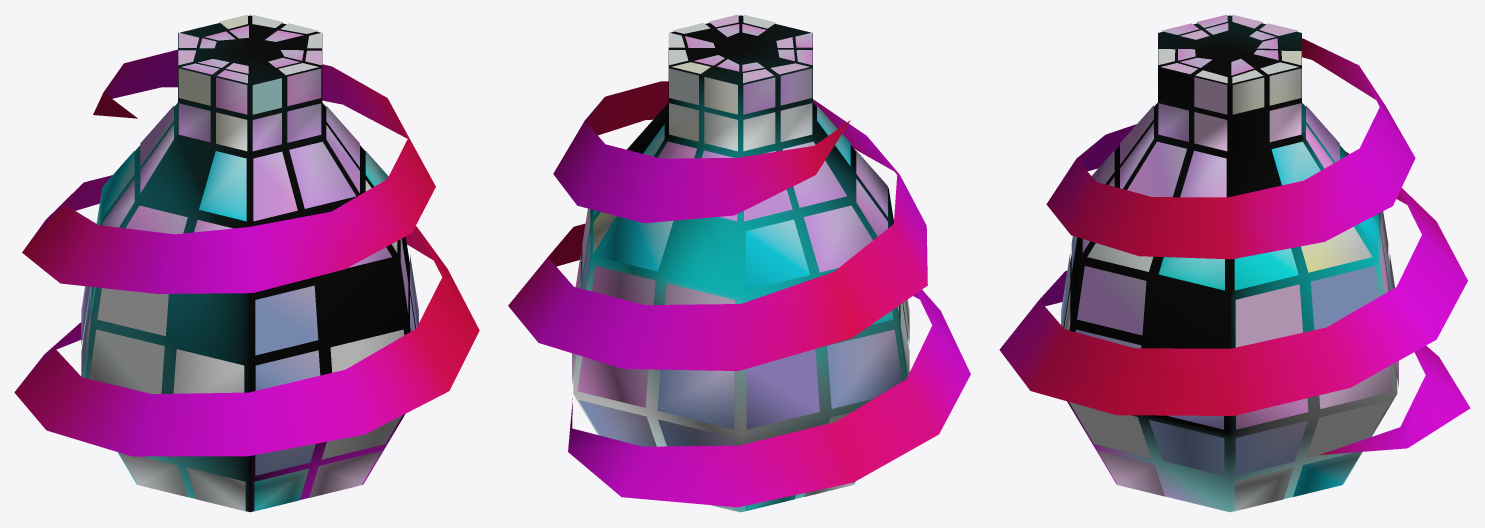
Rendered from grenade_premium_Glitterbomb.glb.
The picture shows the model from 3 angles, left to right: view 1: azimuth 30°, elevation 25°; view 2: azimuth 150°, elevation 25°; view 3: azimuth 270°, elevation 25°; orthographic projection.
Parts seen in each view (by area): view 1: grenade_premium_Glitterbomb; view 2: grenade_premium_Glitterbomb; view 3: grenade_premium_Glitterbomb.
Part boxes in pixels (x1,y1,x2,y2): grenade_premium_Glitterbomb: [14, 14, 479, 512]; grenade_premium_Glitterbomb: [508, 14, 970, 512]; grenade_premium_Glitterbomb: [999, 14, 1470, 512].
Bounding box in the file's own units: 0.1448 × 0.1548 × 0.1476.
